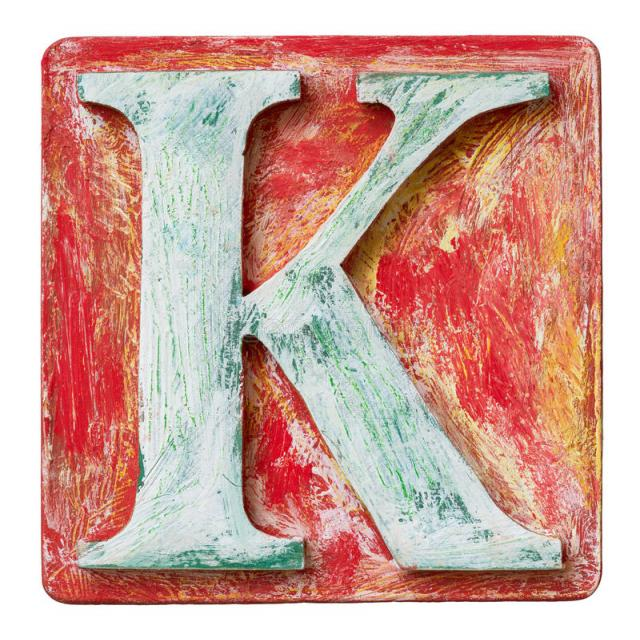K: (64, 59, 586, 588)
